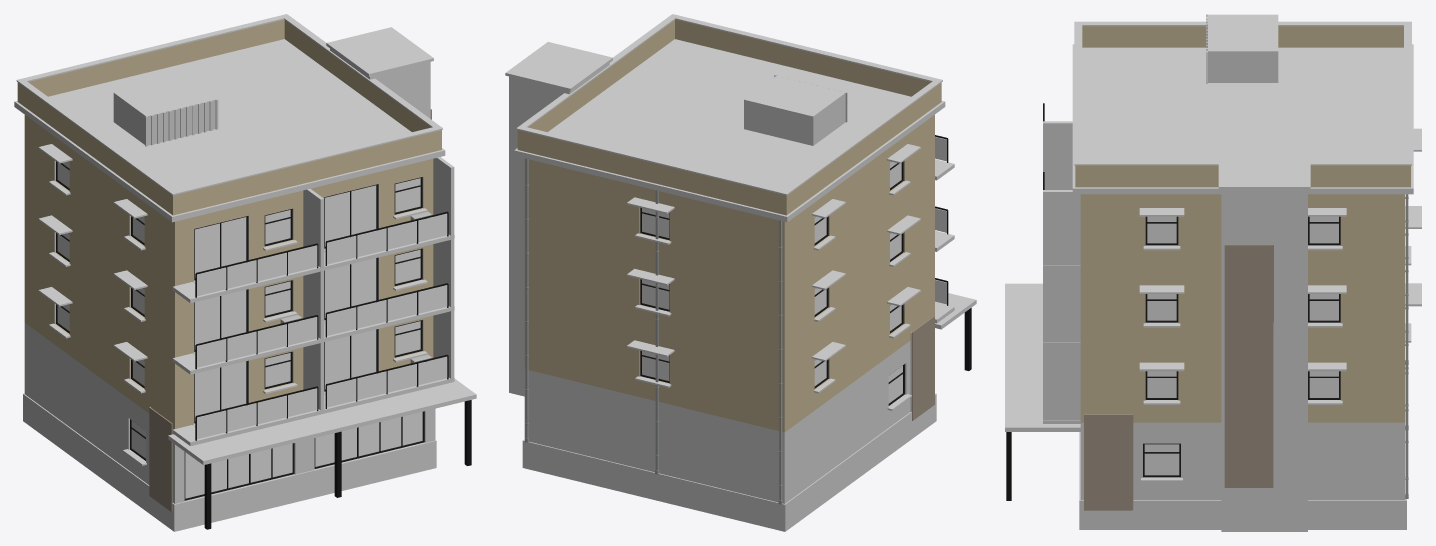
The model's file is apartment_12x12_4.glb.
The picture shows the model from 3 angles, left to right: view 1: azimuth 30°, elevation 25°; view 2: azimuth 150°, elevation 25°; view 3: azimuth 270°, elevation 25°; orthographic projection. The views are drawn at different scales.
Parts seen in each view (by area): view 1: apartment_12x12_4; view 2: apartment_12x12_4; view 3: apartment_12x12_4.
Boxes of the visible parts, left/top/right/bottom form: apartment_12x12_4: left=14, top=14, right=476, bottom=531; apartment_12x12_4: left=505, top=14, right=976, bottom=531; apartment_12x12_4: left=1005, top=14, right=1421, bottom=531.
Bounding box in the file's own units: 15.53 × 16.05 × 15.41.
